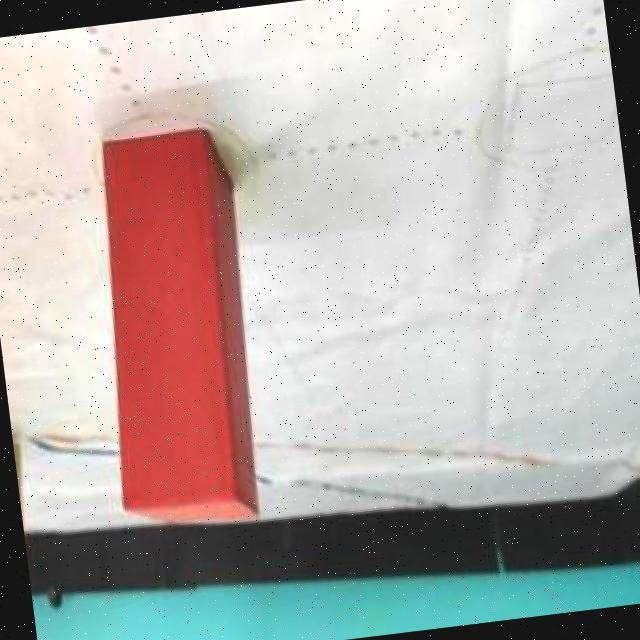redbox: (83, 130, 266, 534)
